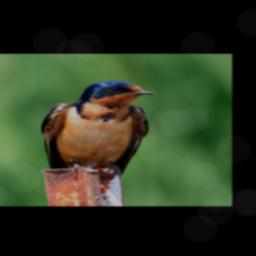Swallow: (40, 80, 156, 182)
